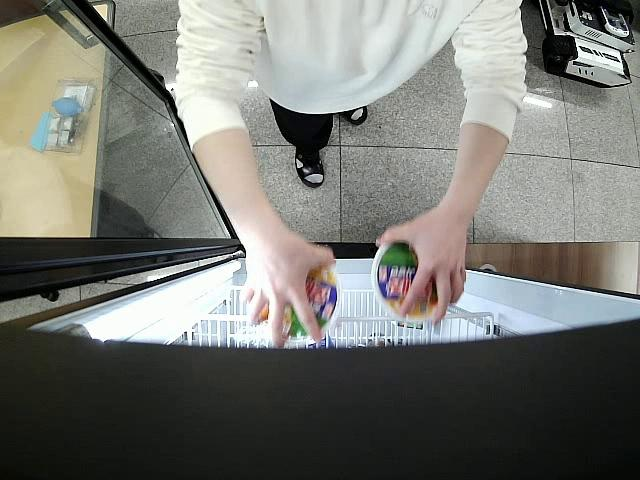00_hand: (239, 227, 336, 347), (375, 209, 467, 325)
09_yukGaeJang: (249, 261, 338, 343), (372, 237, 451, 325)
